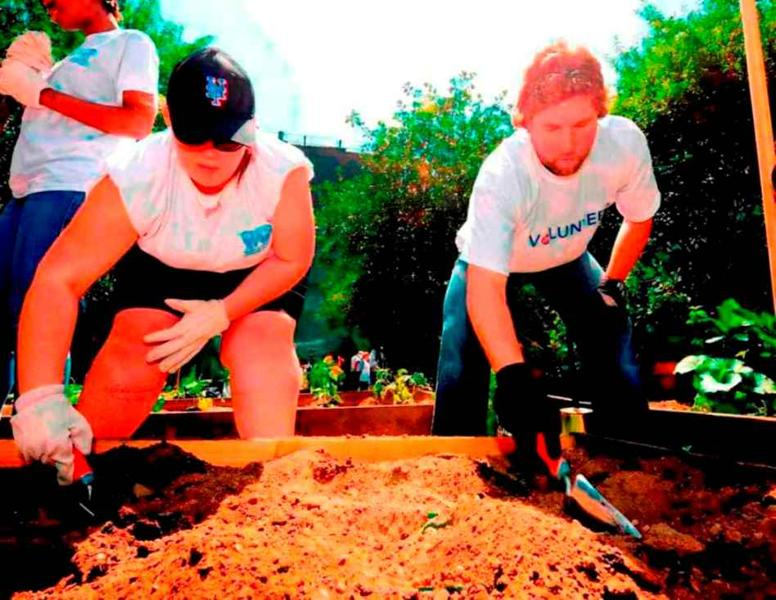person: (432, 43, 663, 484)
